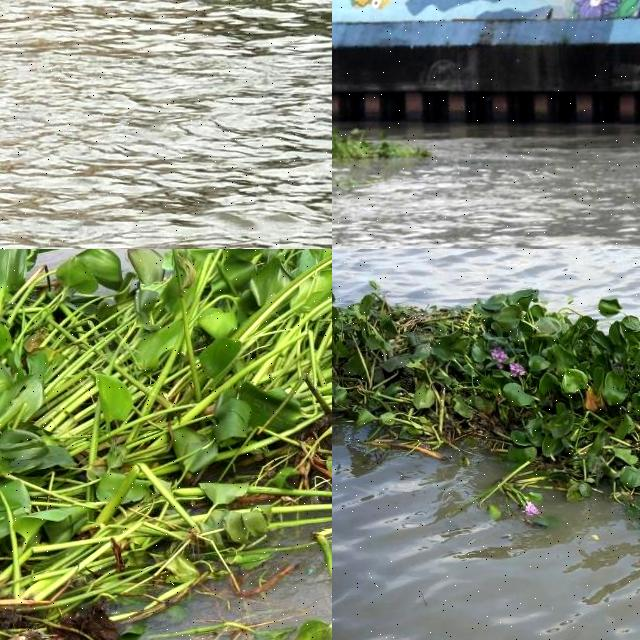water-hyacinth: (1, 250, 333, 640), (333, 276, 640, 525), (333, 123, 428, 165)
